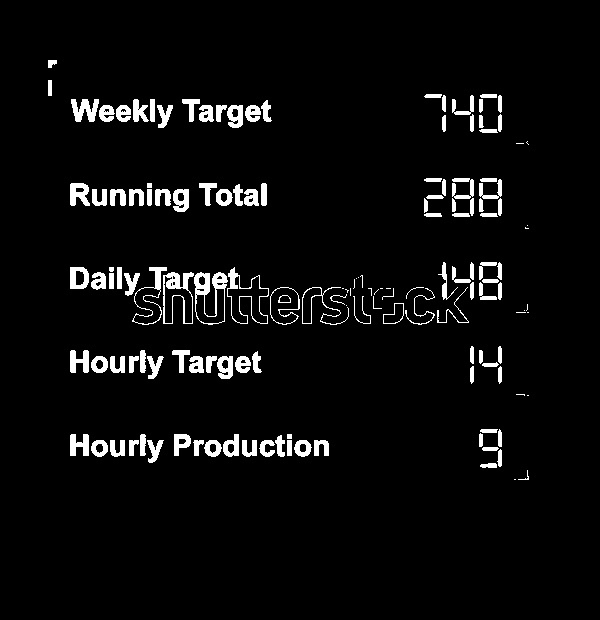eight: (450, 177, 476, 218), (479, 261, 503, 302), (479, 177, 502, 218)
four: (449, 95, 475, 130), (477, 350, 505, 380), (452, 263, 475, 296)
nine: (477, 427, 503, 469)
one: (439, 261, 448, 299), (468, 341, 475, 384)
seven: (424, 94, 447, 134)
two: (422, 176, 448, 218)
zero: (479, 94, 503, 132)
